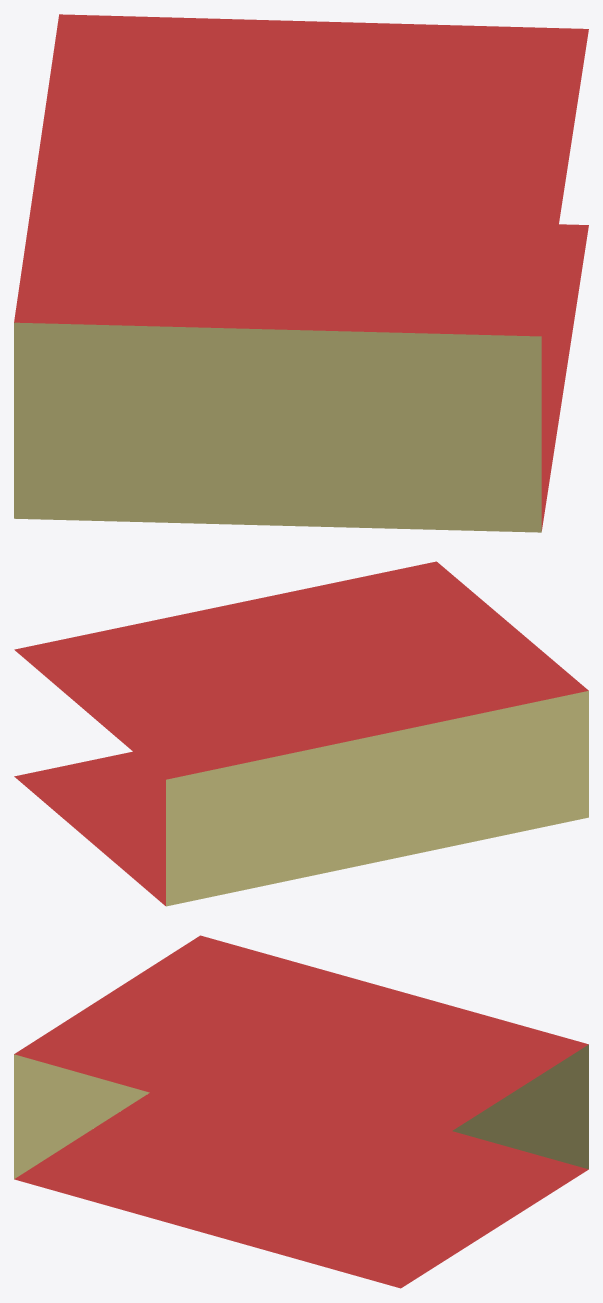
The picture shows the model from 3 angles, top to bottom: view 1: azimuth 30°, elevation 25°; view 2: azimuth 150°, elevation 25°; view 3: azimuth 270°, elevation 25°; orthographic projection. The views are drawn at different scales.
Parts seen in each view (by area): view 1: group_3, group_4, group_5; view 2: group_3, group_4, group_5; view 3: group_3, group_5, group_4.
Boxes of the visible parts, box(x1,y1,x2,y2) form: group_3: box(14, 14, 588, 336); group_4: box(14, 322, 541, 532); group_5: box(541, 224, 588, 530); group_3: box(14, 561, 588, 779); group_4: box(166, 691, 588, 906); group_5: box(14, 751, 165, 905); group_3: box(14, 935, 588, 1163); group_5: box(14, 1092, 588, 1288); group_4: box(14, 1044, 588, 1178).
Size of the model in its own units: 39.62 by 42.23 by 10.14.
